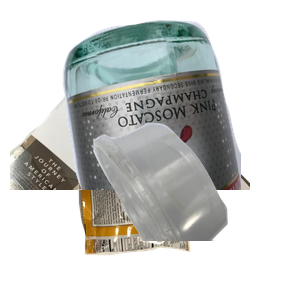glass: (60, 17, 300, 197)
paper: (10, 46, 250, 226)
plastic: (91, 120, 300, 300)
trash: (76, 159, 259, 300)
